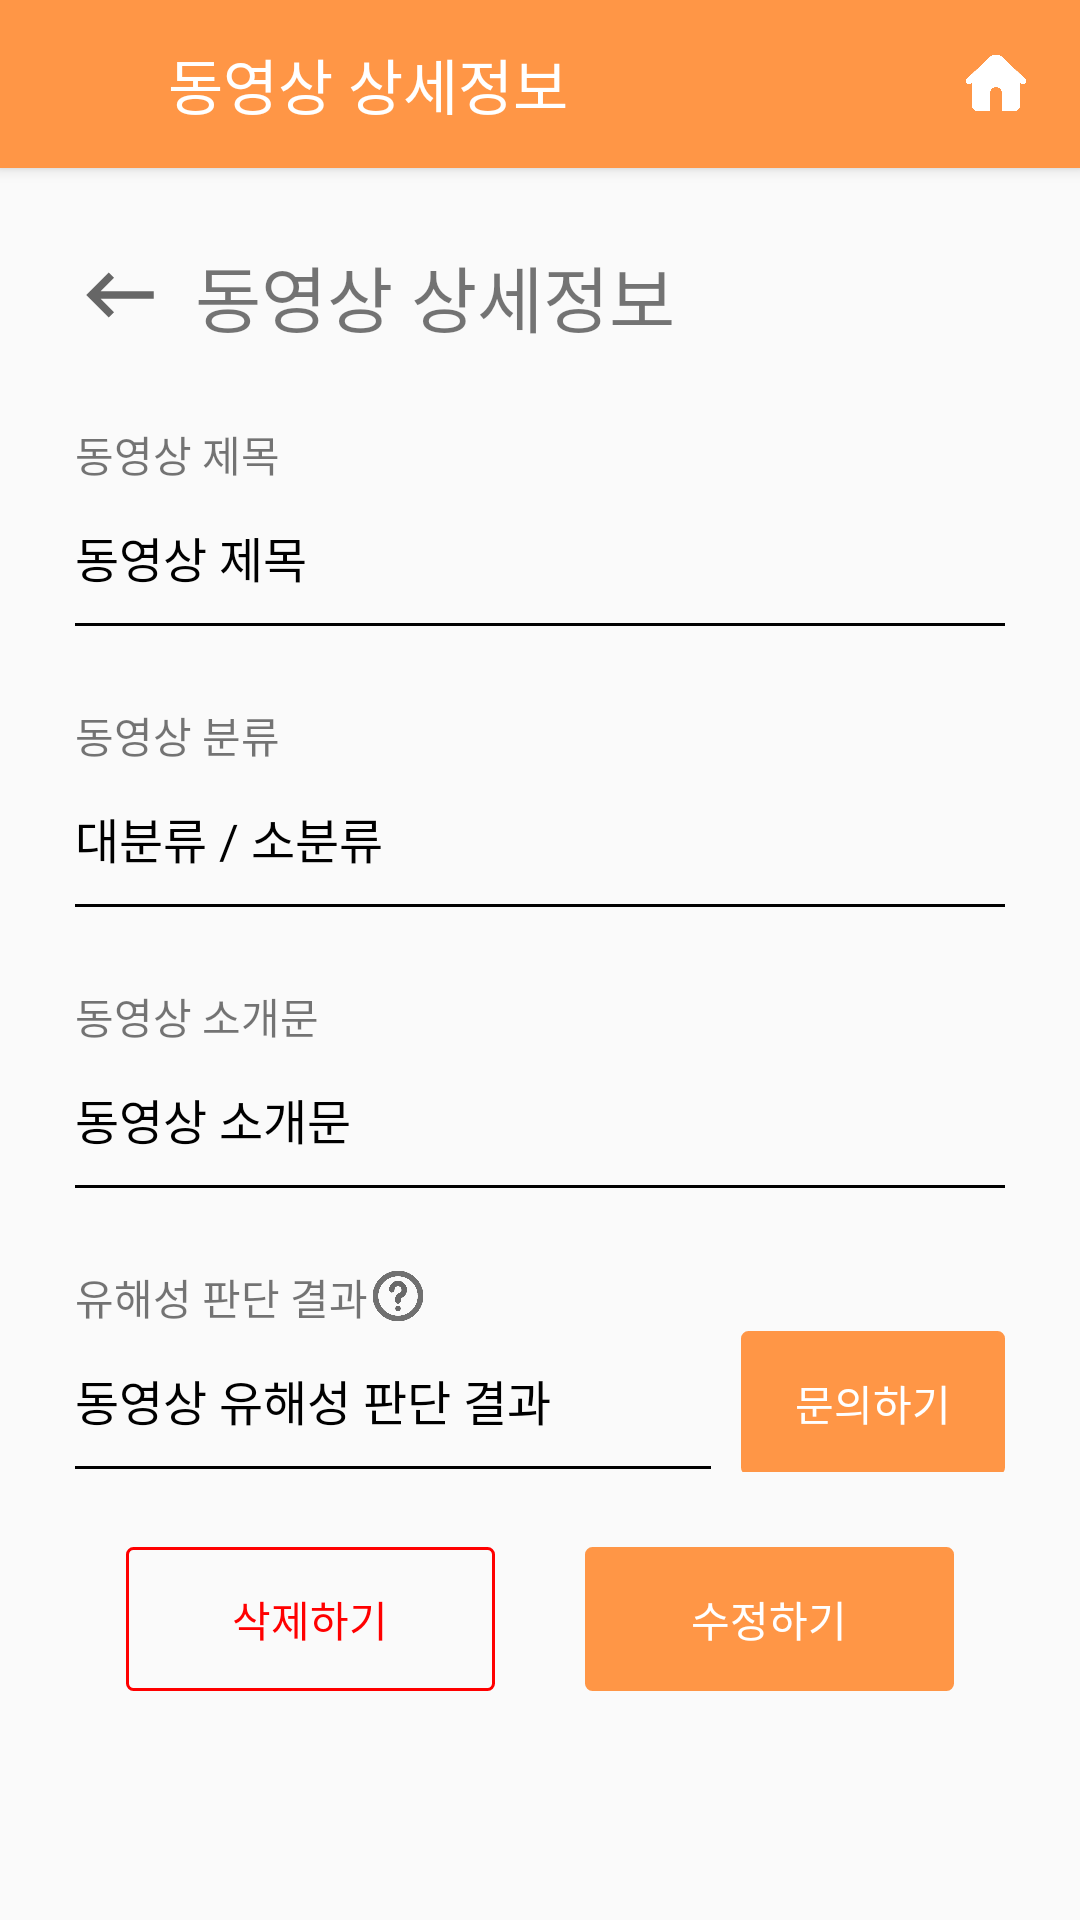

Icon click points for this 1080x1920 phone screenshot, format [x,y]:
home: [996,83]
keyboard backspace: [120,295]
question: [398,1296]
